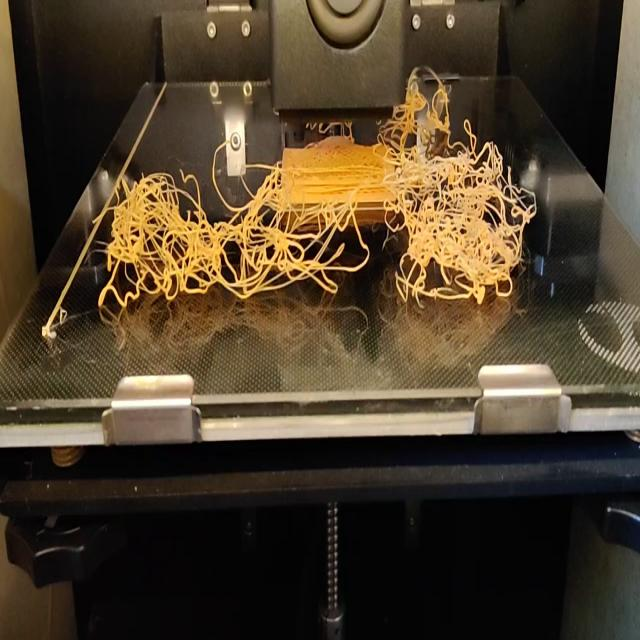spaghetti: (95, 132, 537, 322), (406, 62, 449, 128), (463, 116, 472, 134)
